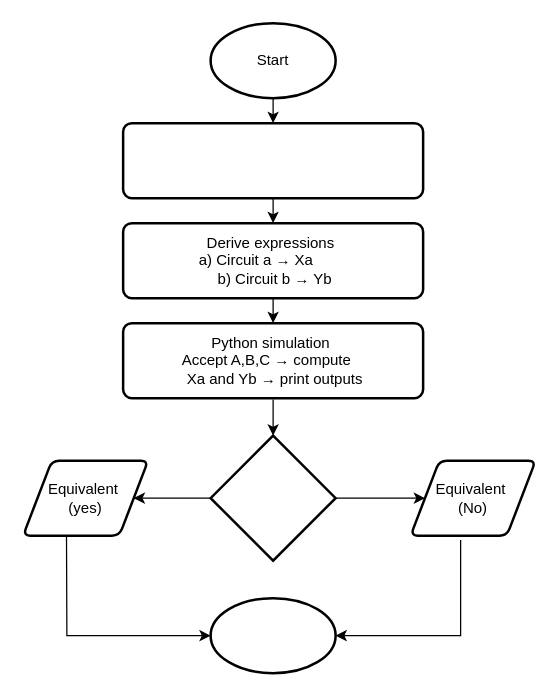
Image size: 558x695. Some labels were removed from this diagram. Here are the shapes that lost their labels. From the top down, the centre of each, then its label:
At (272,160): "Drive Boolean Expression (a & b)".
At (272,497): "compare output".
At (272,635): "End".
